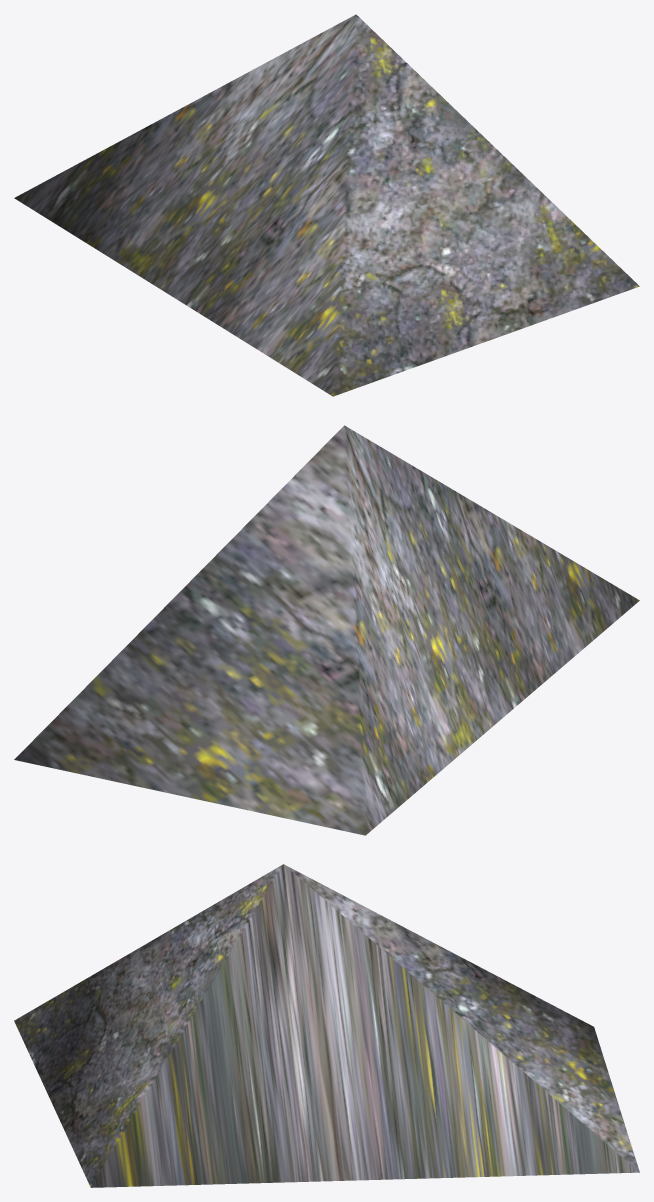
File: rock_weatheredmossy_medium_a1_l3.fbx
3 views of the same model, one above another, from view 1: azimuth 30°, elevation 25°; view 2: azimuth 150°, elevation 25°; view 3: azimuth 270°, elevation 25° (orthographic). The views are drawn at different scales.
Visible parts, largest first — view 1: mesh_node; view 2: mesh_node; view 3: mesh_node.
Boxes of the visible parts, left/top/right/bottom form: mesh_node: left=14, top=14, right=639, bottom=396; mesh_node: left=14, top=425, right=639, bottom=835; mesh_node: left=14, top=864, right=639, bottom=1187.
Size of the model in its own units: 0.3078 by 0.2063 by 0.4705.
1 material, 1 textured.
